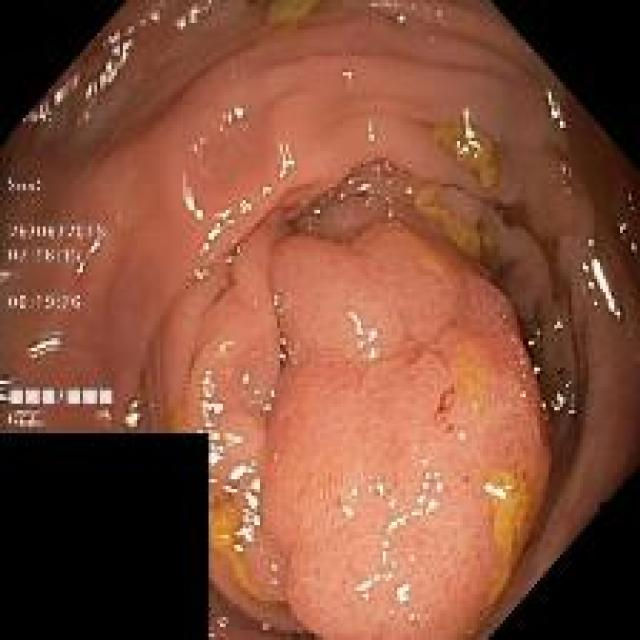Polyps: (262, 223, 548, 639)
